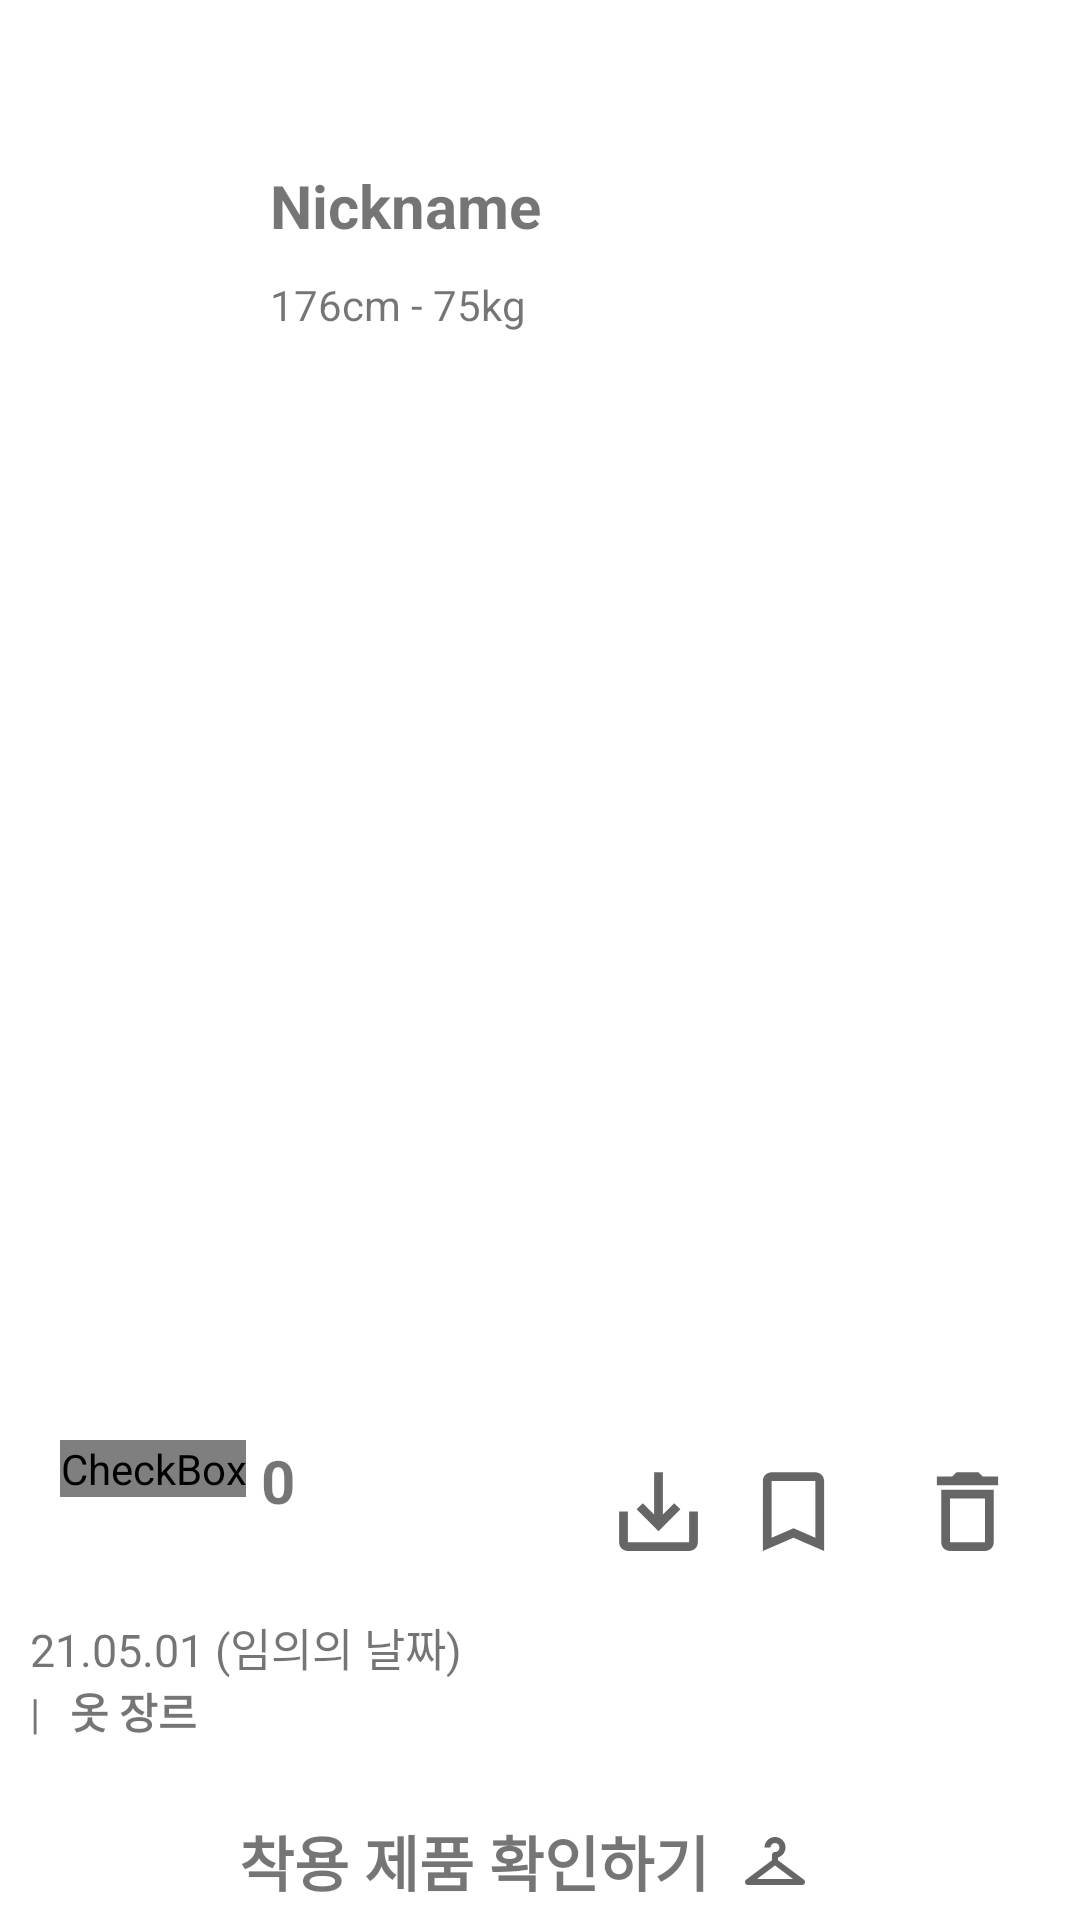

Icons on this 1080×1920 Android screen, each with its box as (x1, y1, x2, y2):
clothicon: (745, 1837, 805, 1885)
delete: (937, 1472, 998, 1551)
